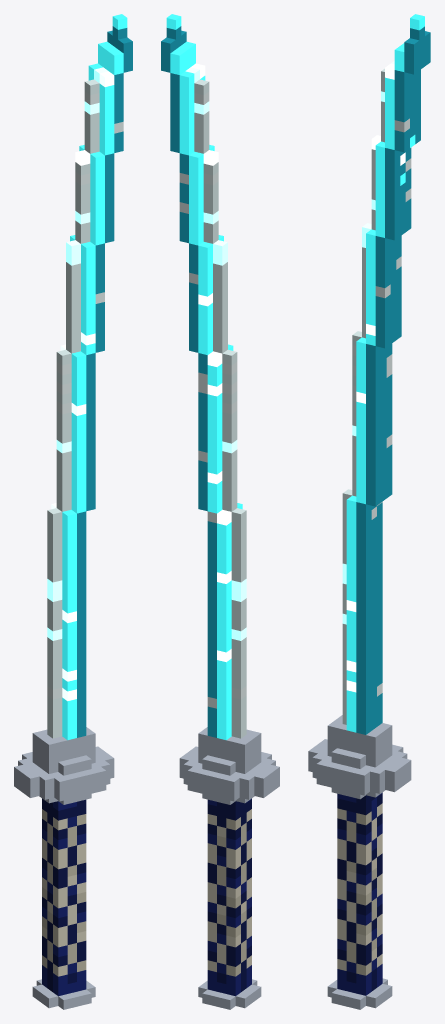
File: Katana_Diamond_Voxel.fbx
3 views of the same model, side by side, from view 1: azimuth 30°, elevation 25°; view 2: azimuth 150°, elevation 25°; view 3: azimuth 330°, elevation 25° (orthographic). The views are drawn at different scales.
Parts seen in each view (by area): view 1: Katana_Diamond_Voxel; view 2: Katana_Diamond_Voxel; view 3: Katana_Diamond_Voxel.
Boxes of the visible parts, x1=… form: Katana_Diamond_Voxel: x1=14, y1=14, x2=132, y2=1009; Katana_Diamond_Voxel: x1=161, y1=14, x2=279, y2=1009; Katana_Diamond_Voxel: x1=308, y1=14, x2=430, y2=1009.
Size of the model in its own units: 0.132 by 1.19 by 0.084.
